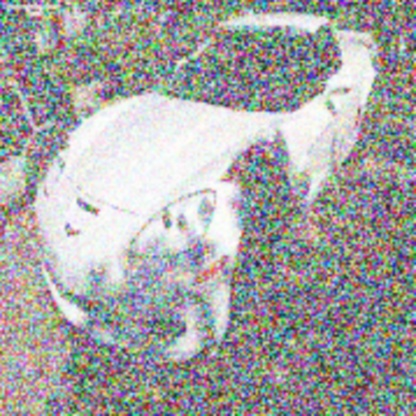Vehicle: (36, 13, 377, 368)
